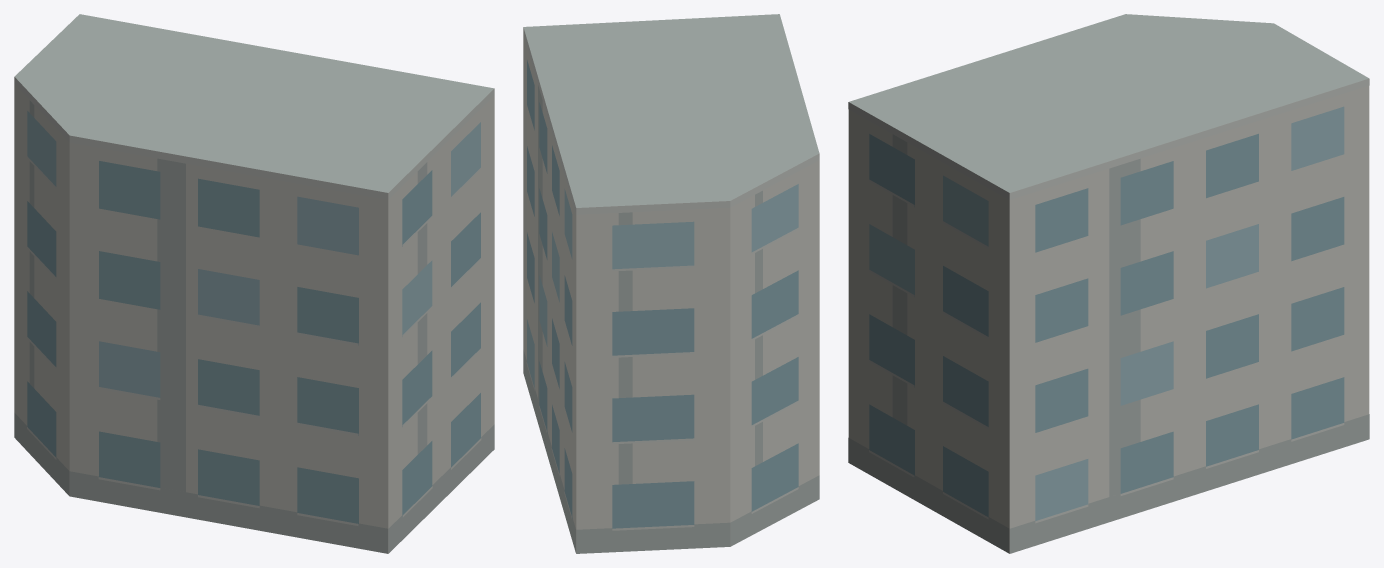
Rendered from residential-b6dee146-652b-4eda-b8ab-0b9294141b18.glb.
3 renders of one model, left to right at view 1: azimuth 30°, elevation 25°; view 2: azimuth 150°, elevation 25°; view 3: azimuth 270°, elevation 25°, orthographic. The views are drawn at different scales.
Visible parts, largest first — view 1: residential-b6dee146-652b-4eda-b8ab-0b9294141b18.tmp; view 2: residential-b6dee146-652b-4eda-b8ab-0b9294141b18.tmp; view 3: residential-b6dee146-652b-4eda-b8ab-0b9294141b18.tmp.
Boxes of the visible parts, x1,y1,x2,y2 form: residential-b6dee146-652b-4eda-b8ab-0b9294141b18.tmp: [14, 14, 494, 553]; residential-b6dee146-652b-4eda-b8ab-0b9294141b18.tmp: [523, 14, 819, 553]; residential-b6dee146-652b-4eda-b8ab-0b9294141b18.tmp: [848, 14, 1369, 553].
Bounding box in the file's own units: 12.99 × 12.2 × 15.97.
